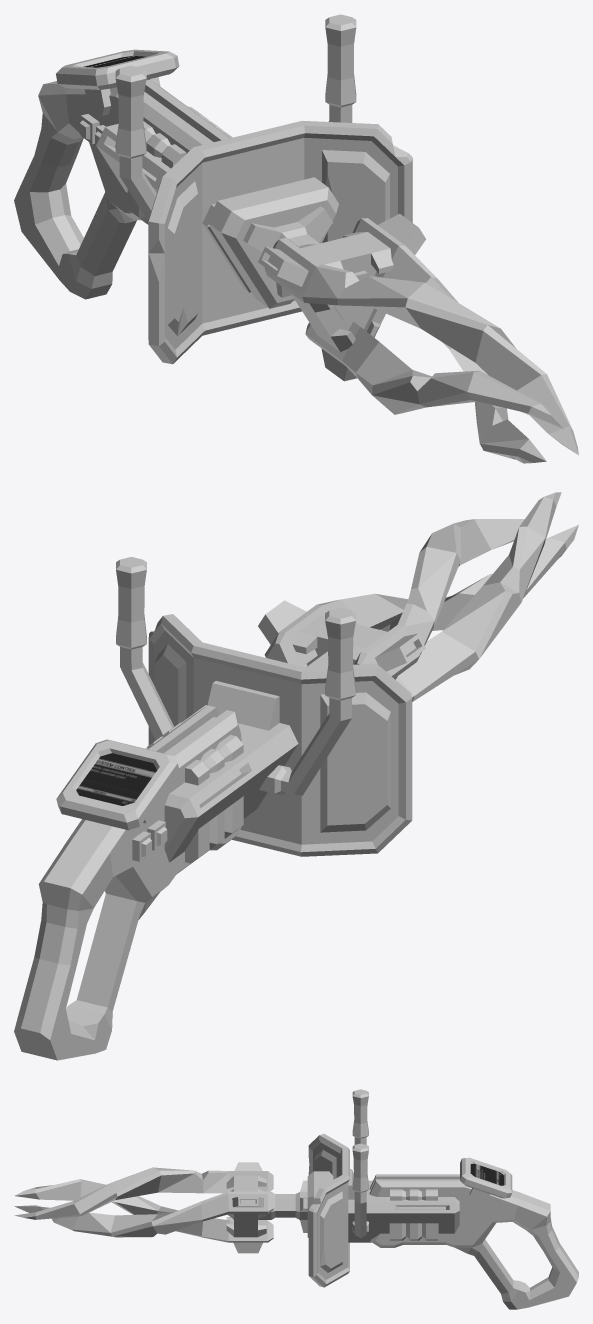
The model's file is SM_Wep_Drill_01.fbx.
3 renders of one model, top to bottom at view 1: azimuth 30°, elevation 25°; view 2: azimuth 150°, elevation 25°; view 3: azimuth 270°, elevation 25°, orthographic. The views are drawn at different scales.
Visible parts, largest first — view 1: SM_Wep_Drill_01; view 2: SM_Wep_Drill_01; view 3: SM_Wep_Drill_01.
Part boxes in pixels (x1=…): SM_Wep_Drill_01: x1=14, y1=14, x2=578, y2=463; SM_Wep_Drill_01: x1=14, y1=492, x2=578, y2=1060; SM_Wep_Drill_01: x1=14, y1=1089, x2=578, y2=1309.
Size of the model in its own units: 46.26 by 59.3 by 162.
